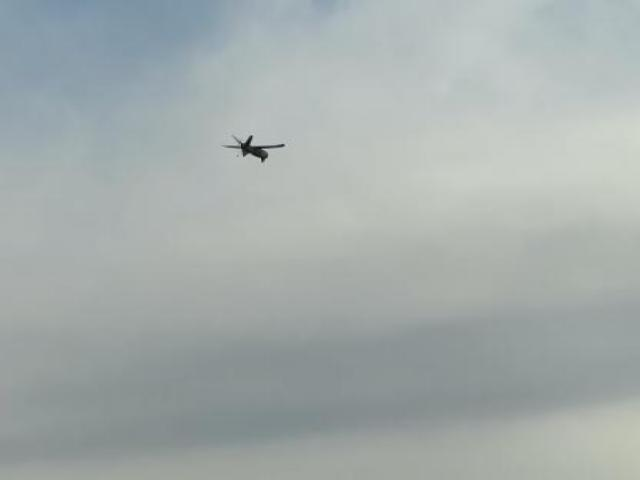uav: (218, 125, 290, 175)
